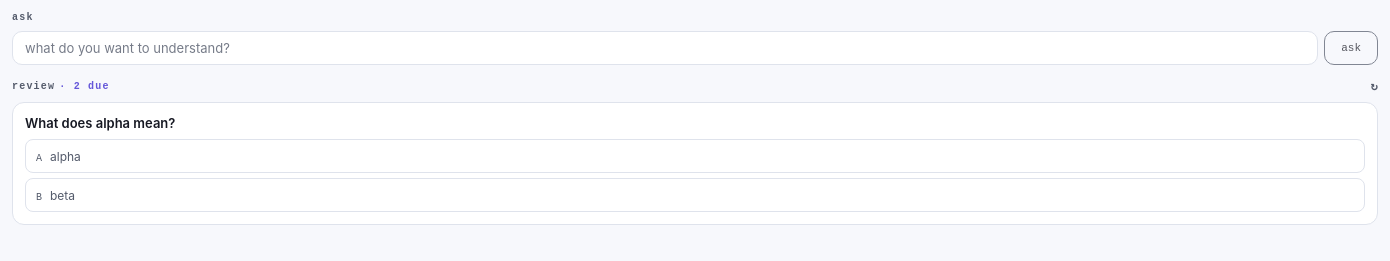
it: TutorPanel › picking a wrong option records an incorrect attempt and reveals the answer
Expected: the text "What does alpha mean?" is shown, [25, 115, 175, 131]
Click the button "beta": (39, 197) [25, 178, 1365, 212]
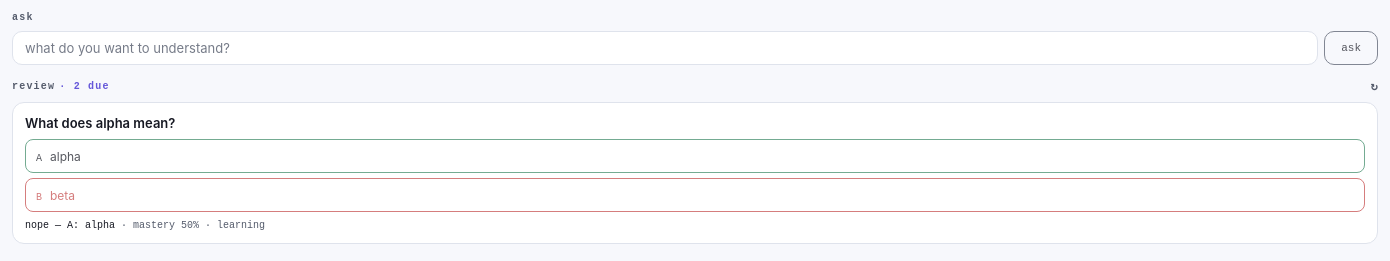
Expected: the text "nope — A: alpha · mastery 50% · learning" is shown, [25, 220, 265, 231]
